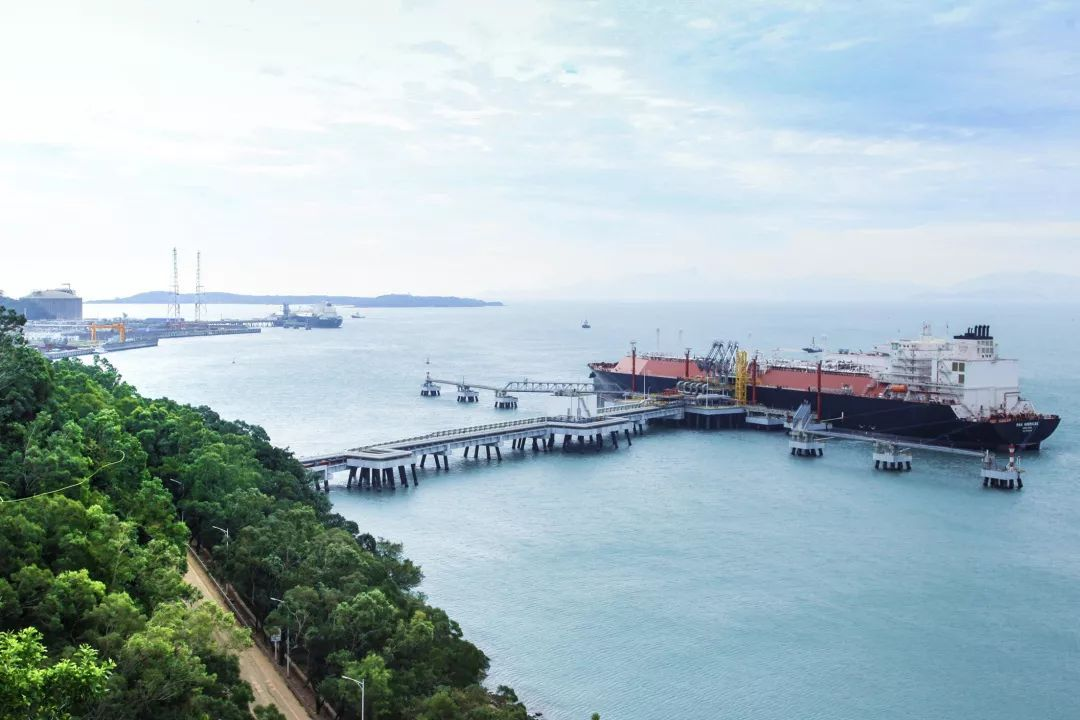Cargoship: (600, 310, 1062, 452), (270, 299, 350, 329)
